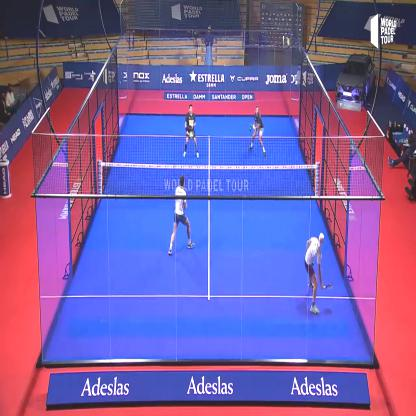ball: (284, 34, 294, 48)
